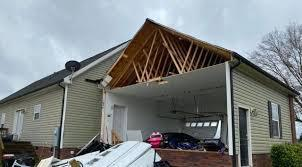destroyed: (112, 10, 296, 167)
